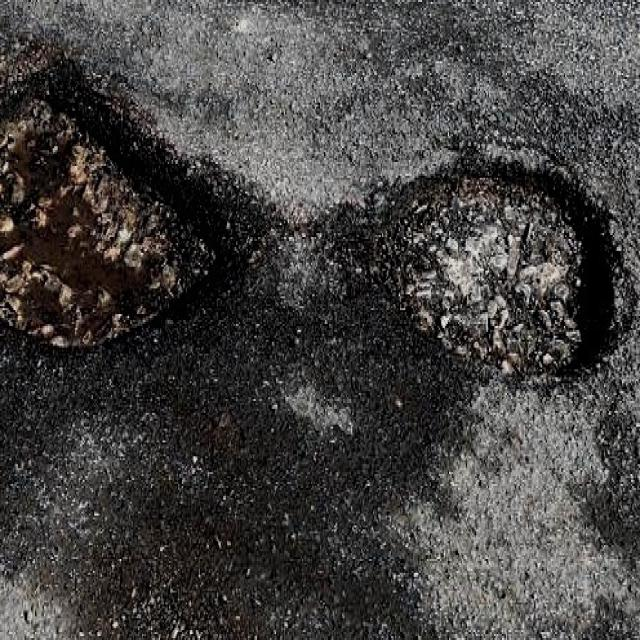road-pothole: (0, 36, 262, 369), (367, 155, 627, 387)
